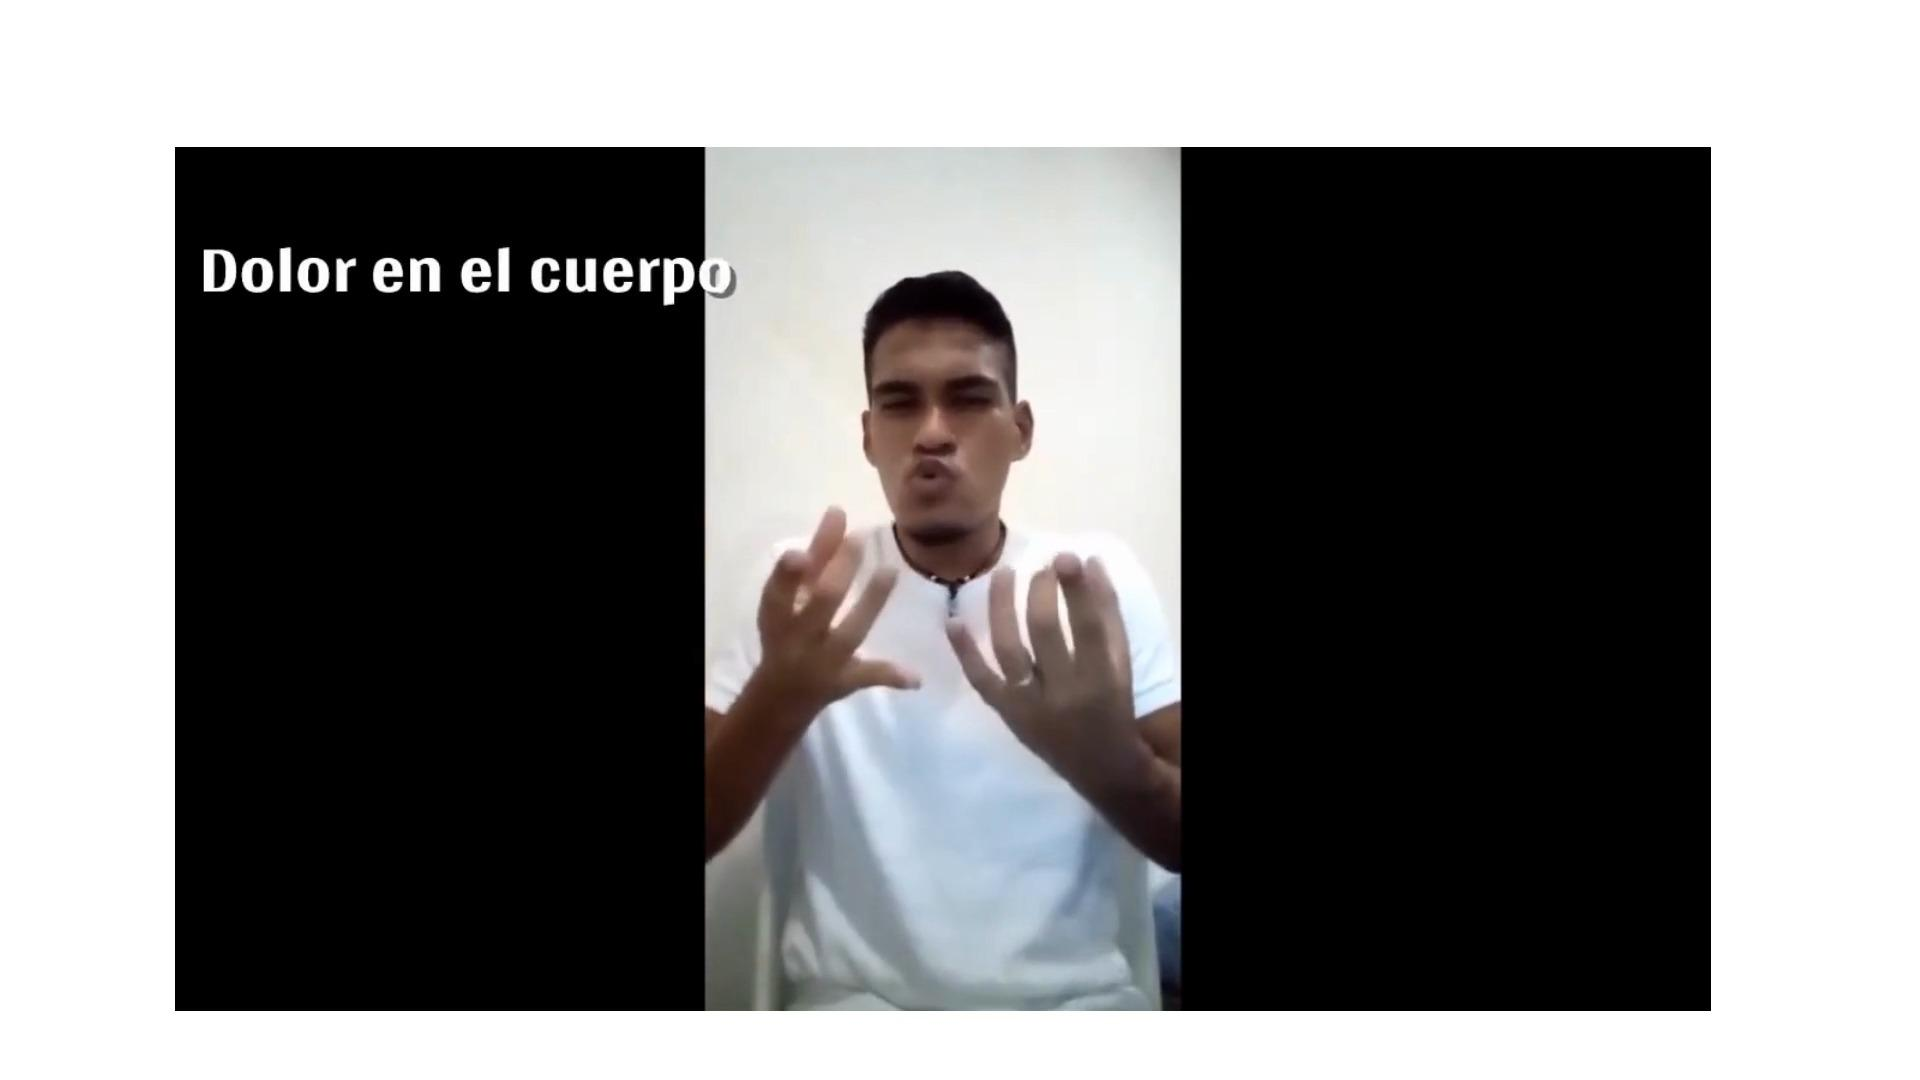Dolor: (757, 264, 1191, 871)
